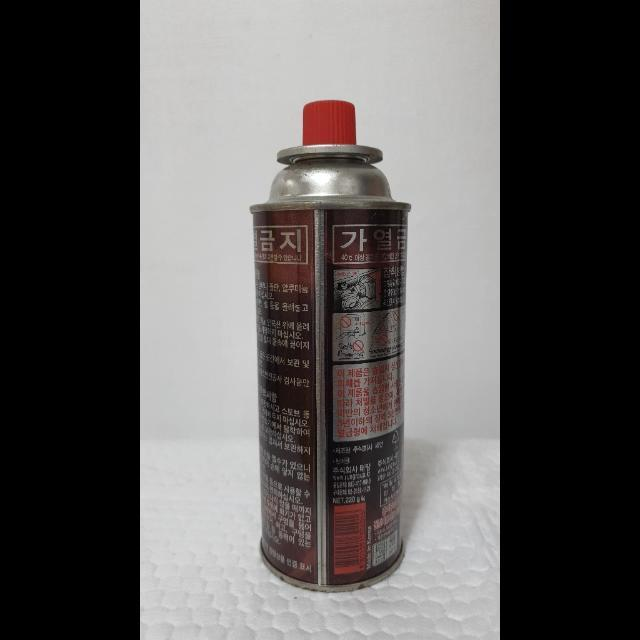chemical_spray_can: (248, 104, 428, 606)
